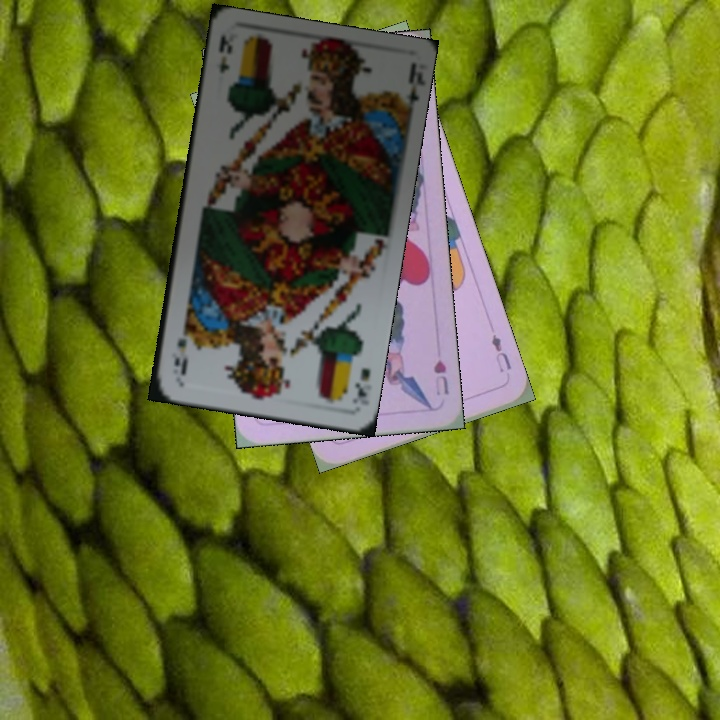EK: (348, 364, 373, 408), (214, 31, 235, 76)
EU: (487, 330, 514, 376)
HU: (429, 355, 452, 398)
